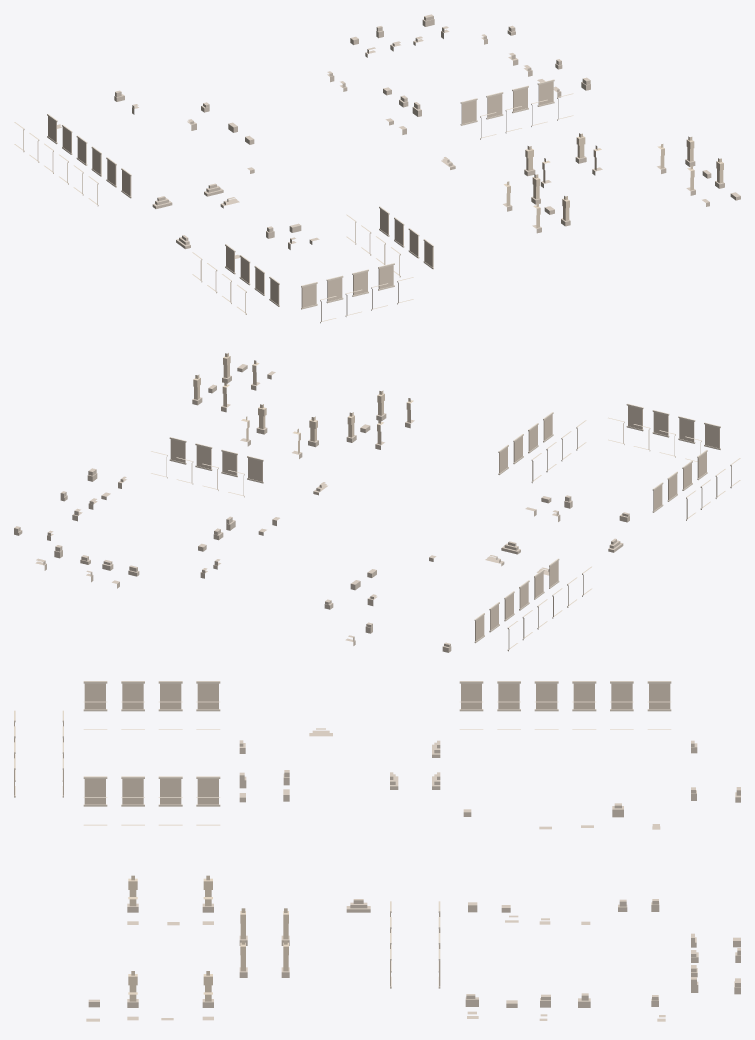
The model's file is props.glb.
3 renders of one model, top to bottom at view 1: azimuth 30°, elevation 25°; view 2: azimuth 150°, elevation 25°; view 3: azimuth 270°, elevation 25°, orthographic. The views are drawn at different scales.
Parts seen in each view (by area): view 1: props; view 2: props; view 3: props.
Boxes of the visible parts, x1=… form: props: x1=14, y1=14, x2=740, y2=323; props: x1=14, y1=353, x2=740, y2=652; props: x1=14, y1=681, x2=740, y2=1021.
Size of the model in its own units: 58 by 3.3 by 58.
